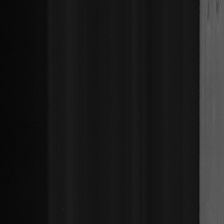silk_spot: (201, 0, 223, 32)
